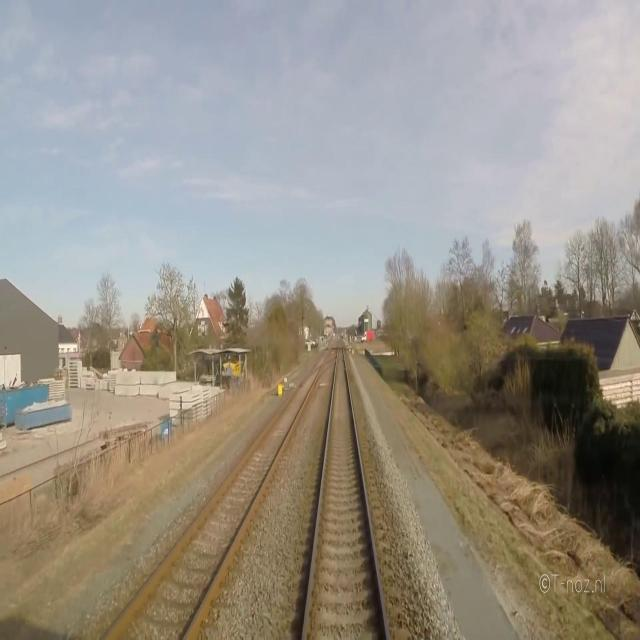rail-track: (106, 356, 324, 639), (306, 347, 385, 639)
